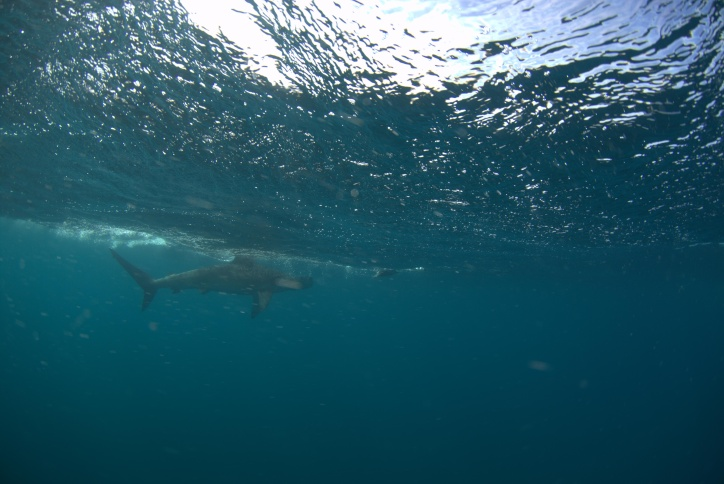Hammer: (107, 231, 337, 332)
